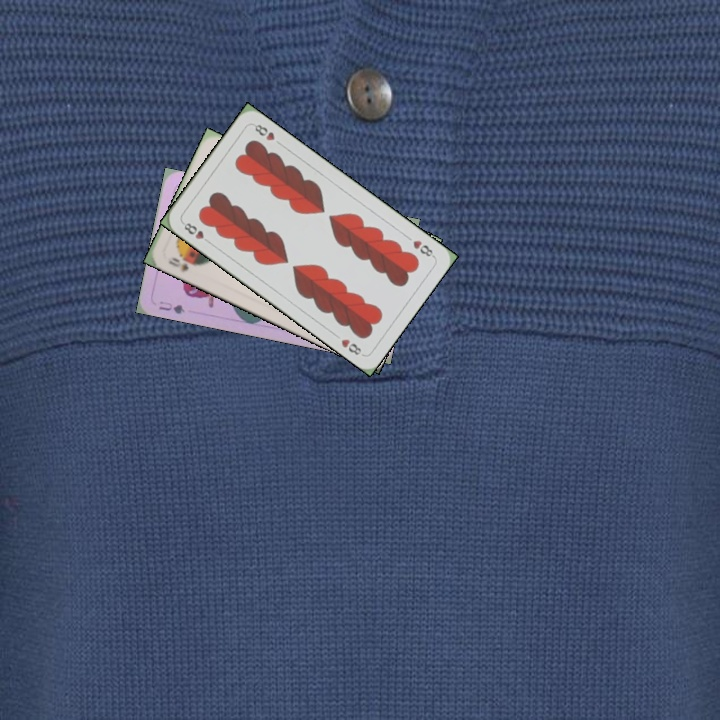GU: (155, 297, 187, 317)
H8: (178, 218, 214, 246), (409, 236, 437, 260)
SO: (164, 253, 192, 275)
